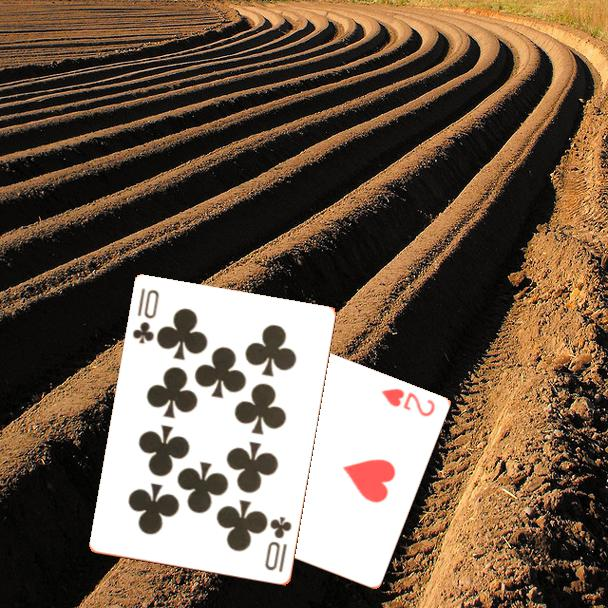c10: (262, 513, 295, 576), (129, 285, 162, 347)
h02: (377, 385, 438, 420)
